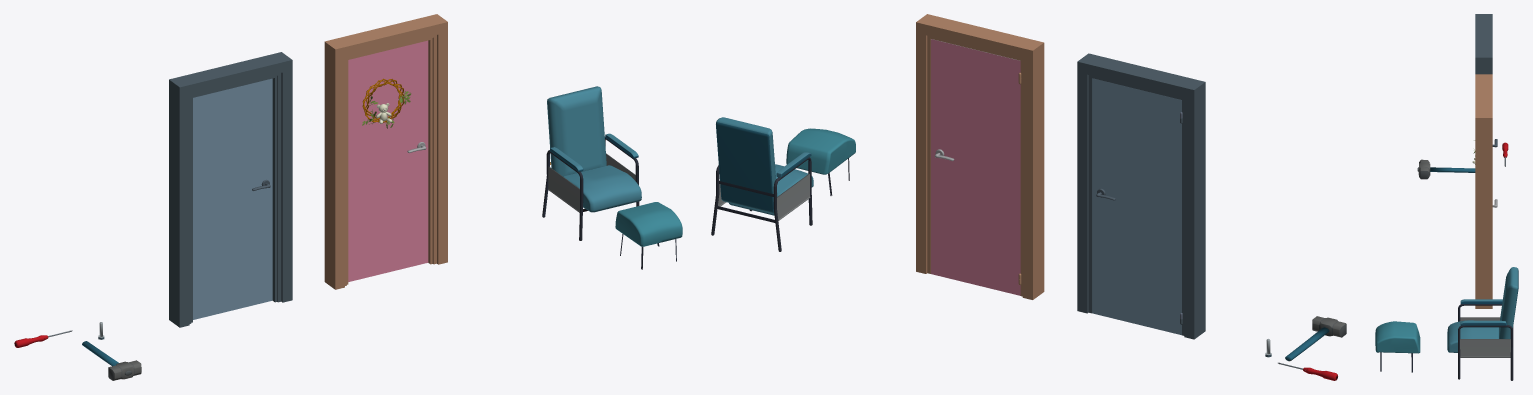
Rendered from ENV1.fbx.
3 renders of one model, left to right at view 1: azimuth 30°, elevation 25°; view 2: azimuth 150°, elevation 25°; view 3: azimuth 270°, elevation 25°, orthographic. The views are drawn at different scales.
Visible parts, largest first — view 1: DOOR2, DOOR1, DOOR2.2, DOOR1.2, CHAIR1, CHAIR1.2, Plane.538, Hammer; view 2: DOOR2, DOOR1, DOOR2.2, DOOR1.2, CHAIR1, CHAIR1.2, Hammer; view 3: DOOR1.2, CHAIR1, CHAIR1.2, DOOR2.2, Hammer.
Part boxes in pixels (box(x1,y1,x2,y2)): DOOR2: box(193, 78, 272, 319); DOOR1: box(348, 40, 428, 281); DOOR2.2: box(169, 52, 292, 327); DOOR1.2: box(324, 14, 447, 289); CHAIR1: box(542, 86, 641, 240); CHAIR1.2: box(615, 202, 682, 269); Plane.538: box(362, 78, 411, 128); Hammer: box(82, 341, 141, 380); DOOR2: box(1092, 78, 1181, 335); DOOR1: box(931, 39, 1020, 295); DOOR2.2: box(1077, 53, 1205, 339); DOOR1.2: box(916, 14, 1044, 299); CHAIR1: box(711, 117, 813, 251); CHAIR1.2: box(786, 128, 855, 195); Hammer: box(1285, 316, 1346, 361); DOOR1.2: box(1475, 74, 1492, 308); CHAIR1: box(1447, 267, 1518, 380); CHAIR1.2: box(1375, 321, 1420, 372); DOOR2.2: box(1475, 14, 1492, 74); Hammer: box(1417, 159, 1475, 179).
Bounding box in the file's own units: 13.82 × 5.38 × 3.6.
